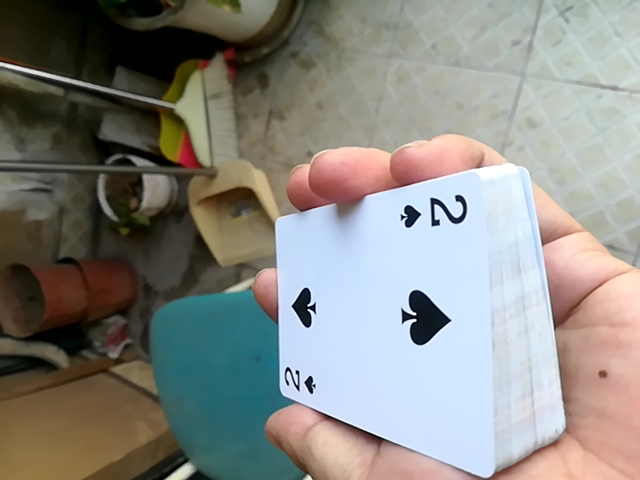ht 2: (254, 163, 551, 473)
